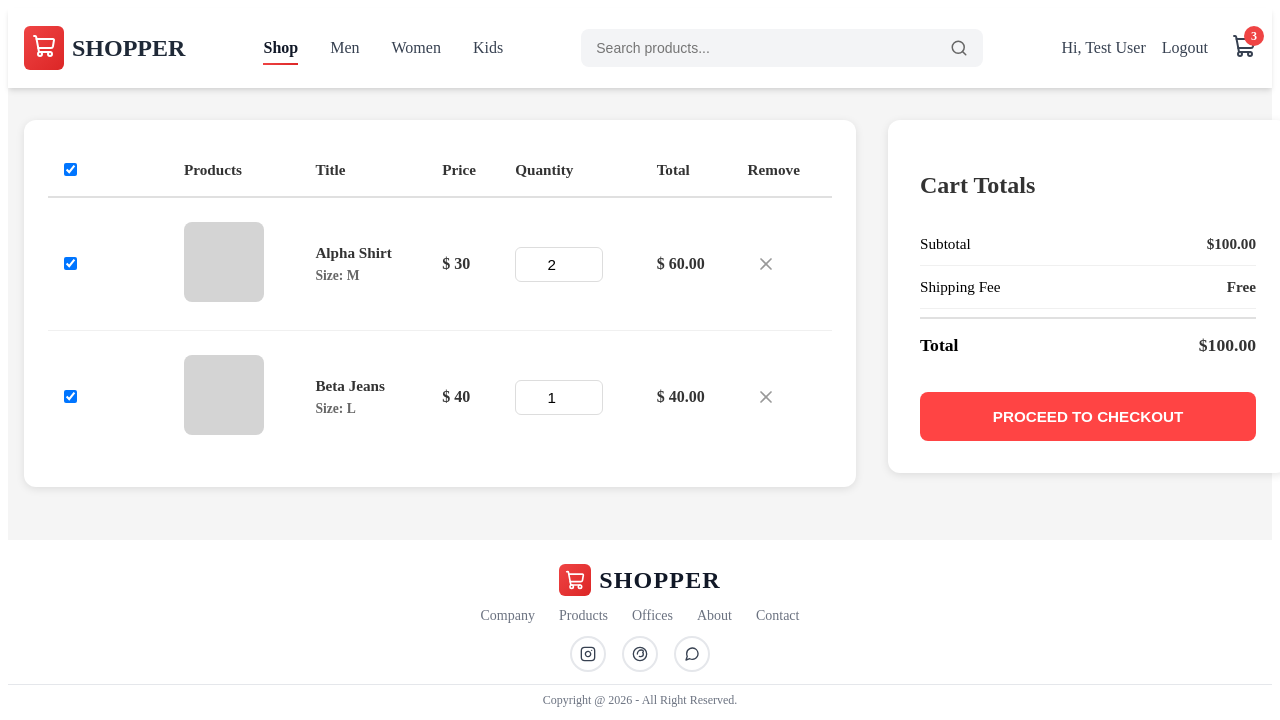
Test: Cart checkbox selection for checkout › blocks checkout and shows validation message when no items are selected
The width and height of the screenshot is (1280, 720).
Click the checkbox named "select all" at (70, 170), box [64,163,77,176]
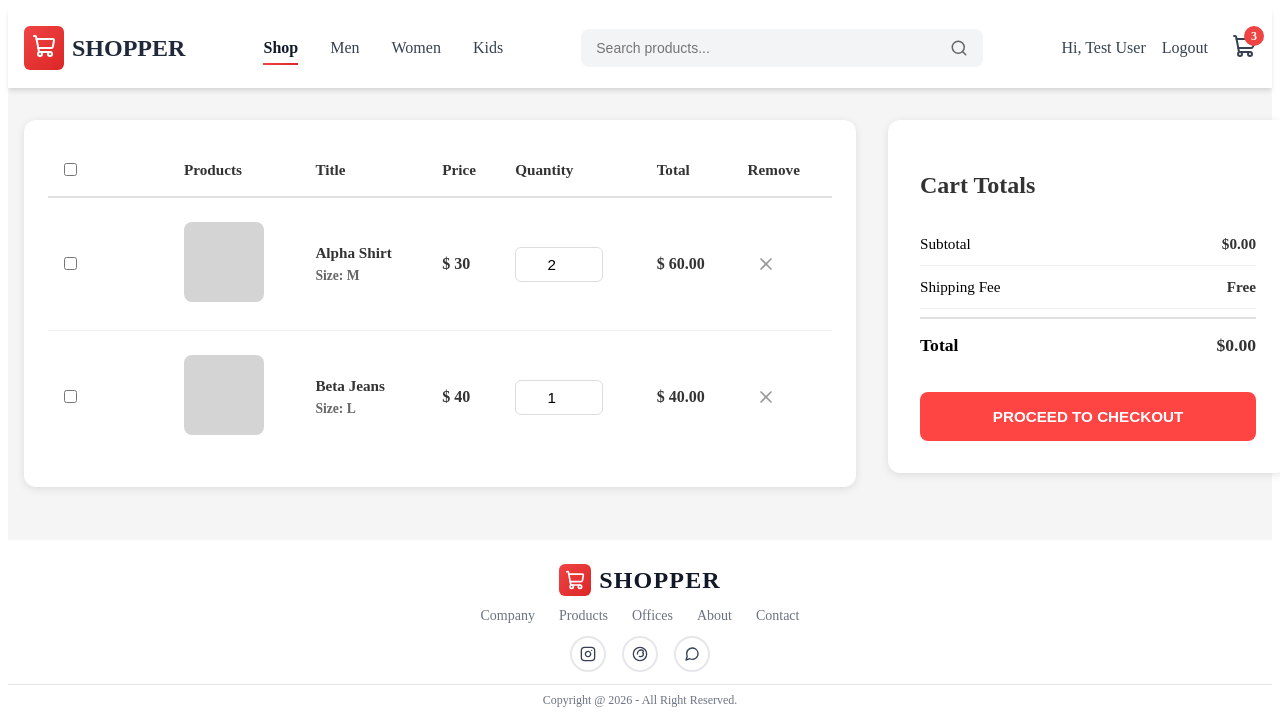
Click the button "PROCEED TO CHECKOUT" at (1088, 416), box [920,392,1256,441]
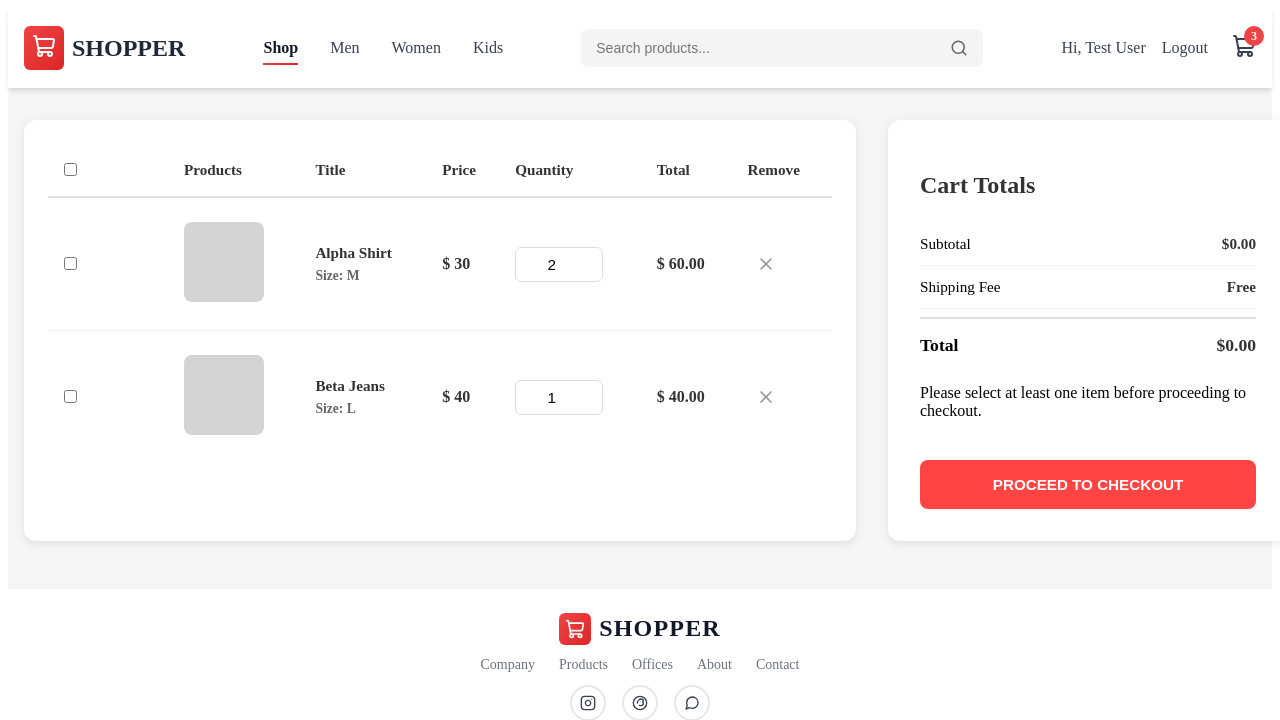
Check: the text "select at least one item" is shown, box [920,384,1246,419]
